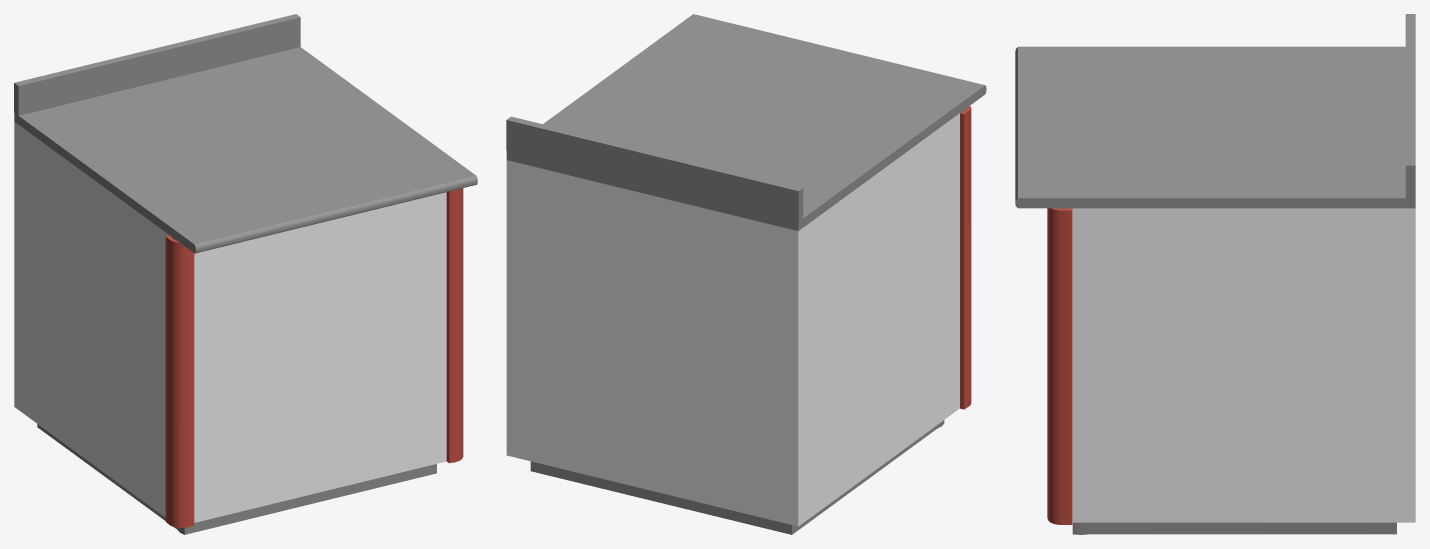
Rendered from counter.fbx.
3 renders of one model, left to right at view 1: azimuth 30°, elevation 25°; view 2: azimuth 150°, elevation 25°; view 3: azimuth 270°, elevation 25°, orthographic. The views are drawn at different scales.
Parts seen in each view (by area): view 1: Counter; view 2: Counter; view 3: Counter.
Boxes of the visible parts, x1,y1,x2,y2 form: Counter: [14, 14, 477, 534]; Counter: [506, 14, 986, 534]; Counter: [1015, 14, 1415, 534].
Size of the model in its own units: 1.55 by 1.61 by 1.44.
